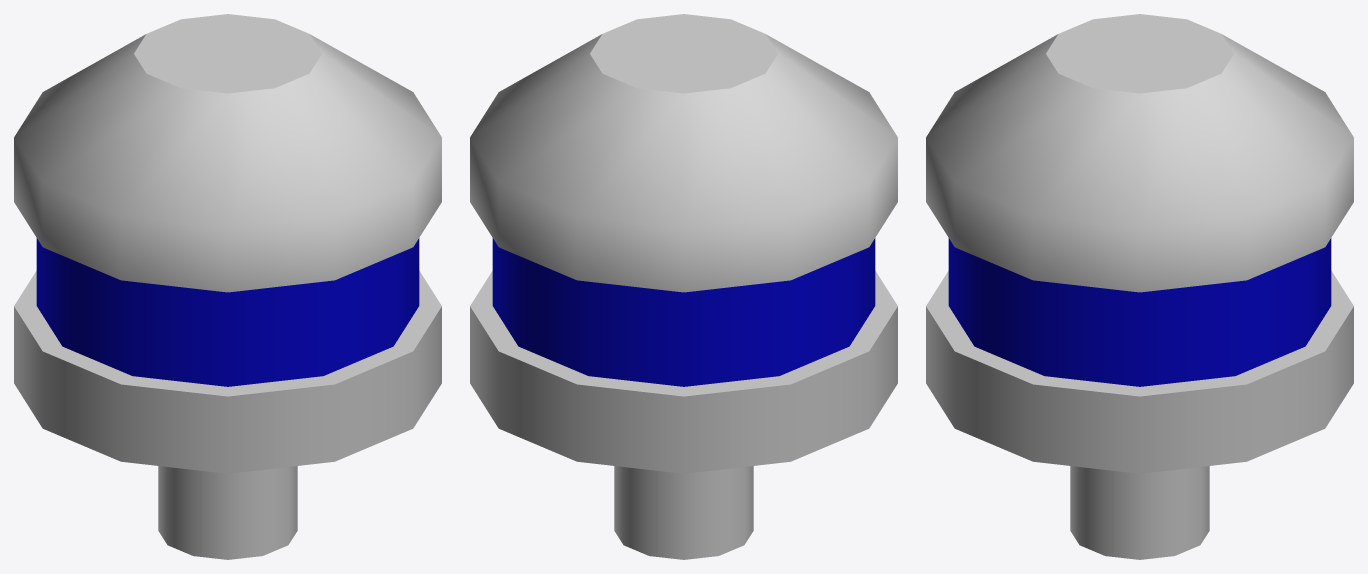
The model's file is Lamp.001.fbx.
3 renders of one model, left to right at view 1: azimuth 30°, elevation 25°; view 2: azimuth 150°, elevation 25°; view 3: azimuth 270°, elevation 25°, orthographic.
Parts seen in each view (by area): view 1: Lamp.001; view 2: Lamp.001; view 3: Lamp.001.
Part boxes in pixels (x1,y1,x2,y2): Lamp.001: [14, 14, 441, 559]; Lamp.001: [470, 14, 897, 559]; Lamp.001: [926, 14, 1353, 559].
Bounding box in the file's own units: 0.3913 × 0.481 × 0.3913.
